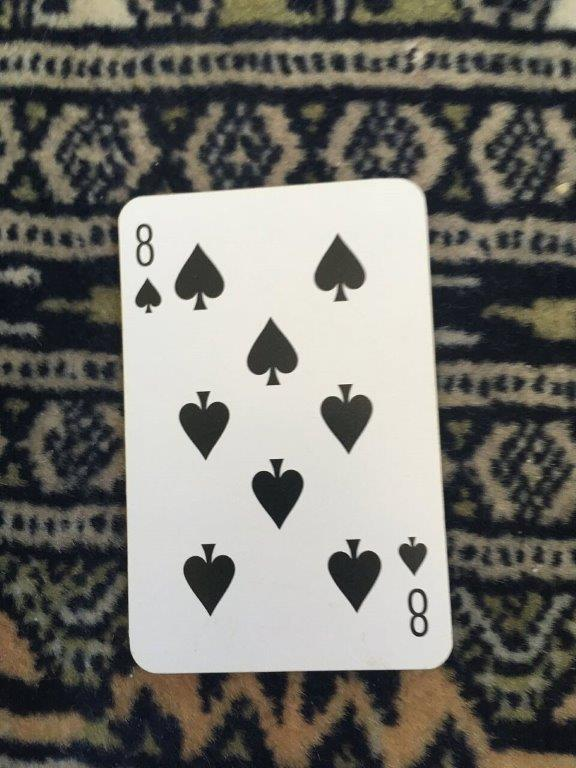8S: (114, 175, 457, 677)
